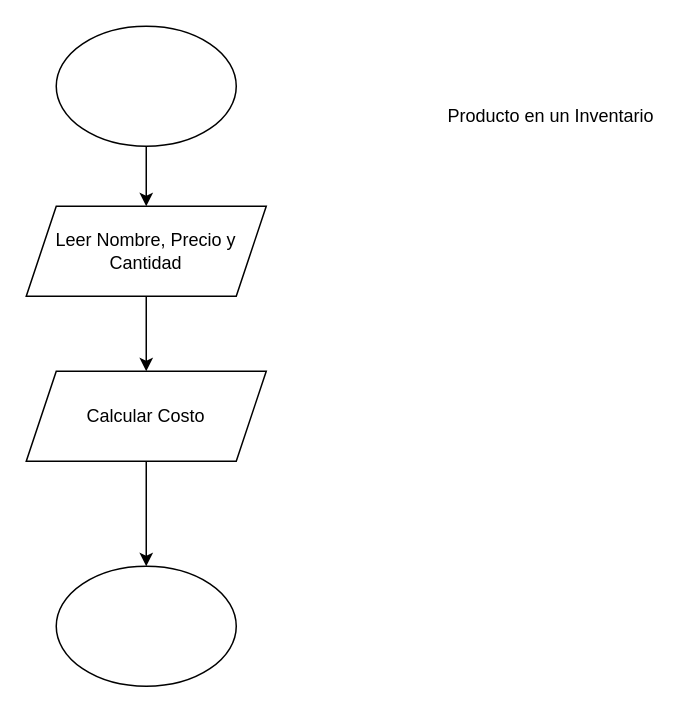
The diagram is 698 pixels wide and 713 high, and some of its shapes have lost their labels. The shapes that lost their labels are listed below. From the top down, each one's centre as x and y in pixels, then its label:
At (145,85): "Inicio".
At (145,625): "Fin".
